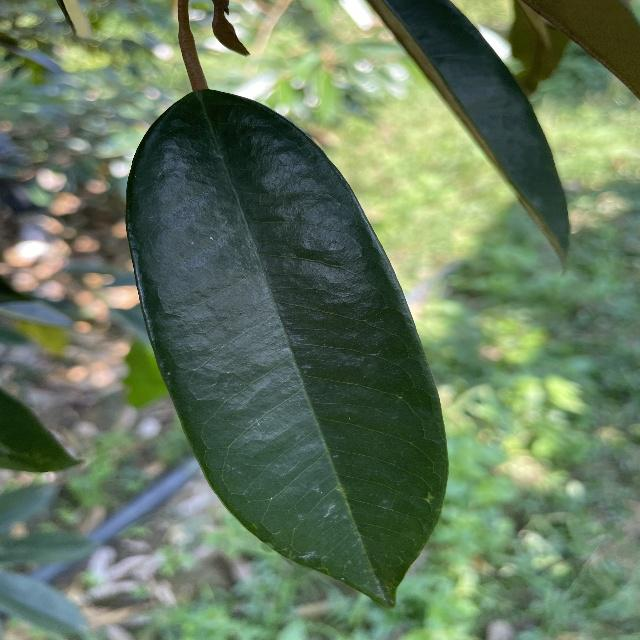No Disease: (115, 81, 458, 617)
